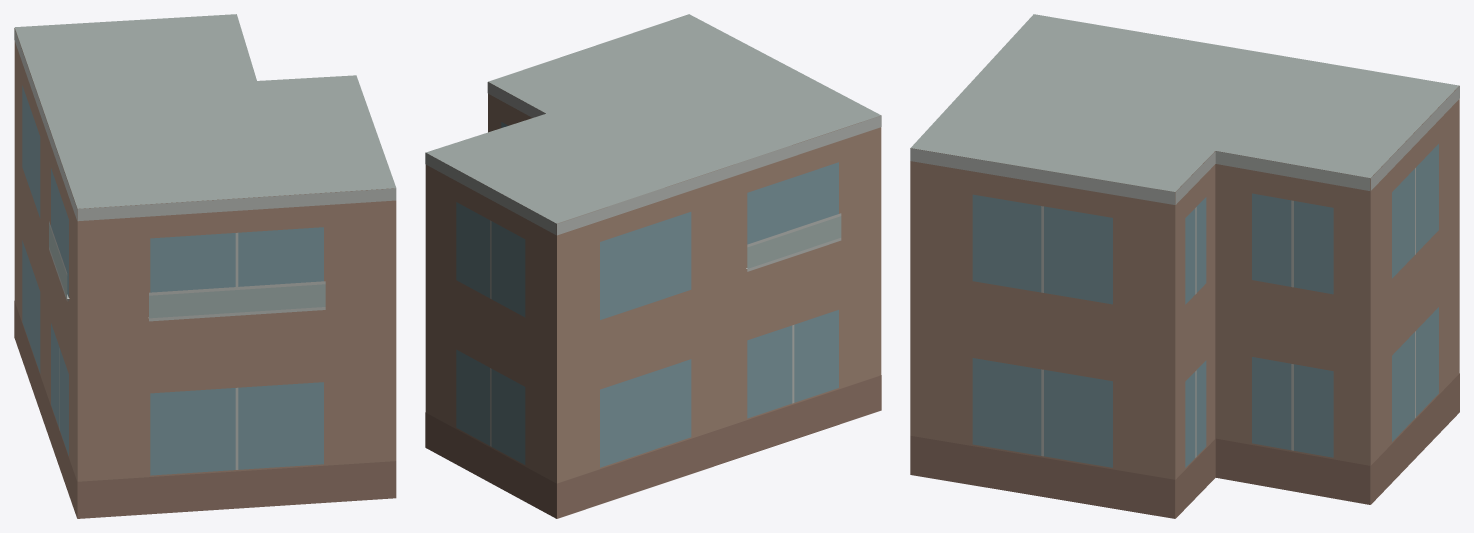
Rendered from survey-upis-32553441.glb.
The picture shows the model from 3 angles, left to right: view 1: azimuth 30°, elevation 25°; view 2: azimuth 150°, elevation 25°; view 3: azimuth 270°, elevation 25°; orthographic projection. The views are drawn at different scales.
Parts seen in each view (by area): view 1: survey-upis-32553441.tmp; view 2: survey-upis-32553441.tmp; view 3: survey-upis-32553441.tmp.
Boxes of the visible parts, bbox=[...] form: survey-upis-32553441.tmp: bbox=[14, 14, 396, 518]; survey-upis-32553441.tmp: bbox=[425, 14, 881, 518]; survey-upis-32553441.tmp: bbox=[910, 14, 1459, 518].
Size of the model in its own units: 7.14 by 6.1 by 9.3.
